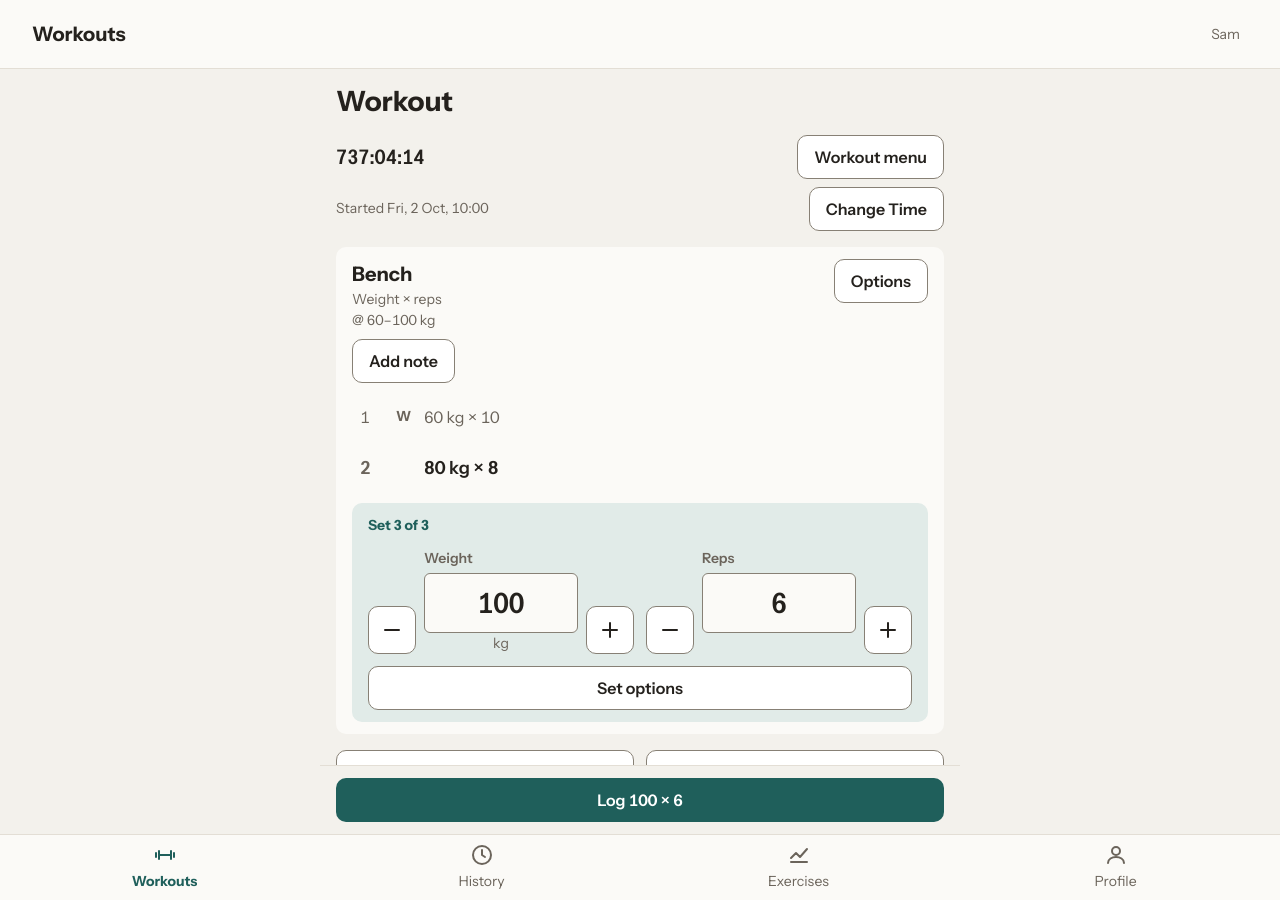
Scenario: 10.2 AC25 — a count change that is not this row's own log › an edited draft keeps the lifter's values; only the label follows
Expected: the heading "Workout" is shown, [336,84,453,118]
Replace the text in the field labelled "Reps" with "99" at (779, 603), box [702,573,856,633]
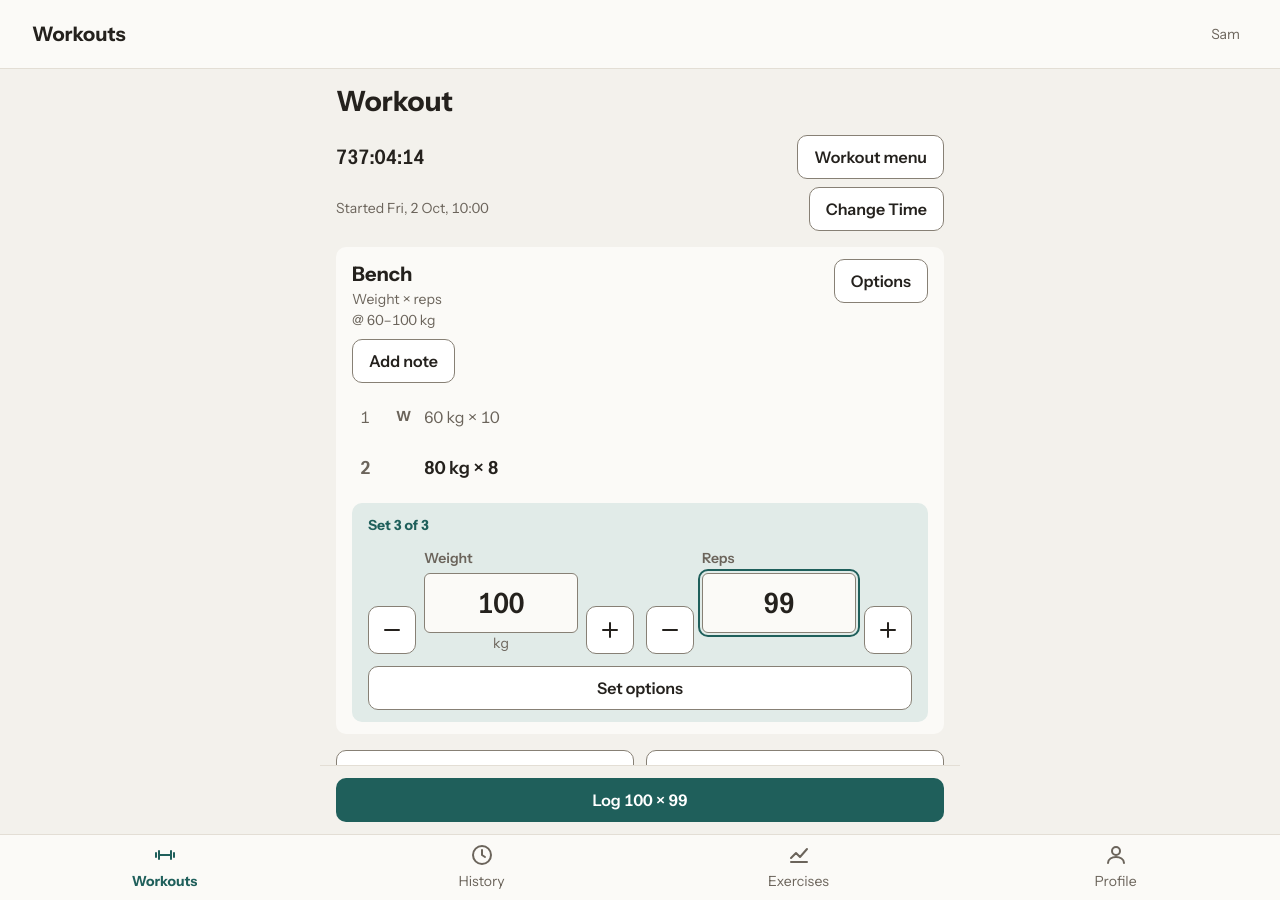
Click the button "2 80 kg × 8" at (461, 468), box [352,447,928,491]
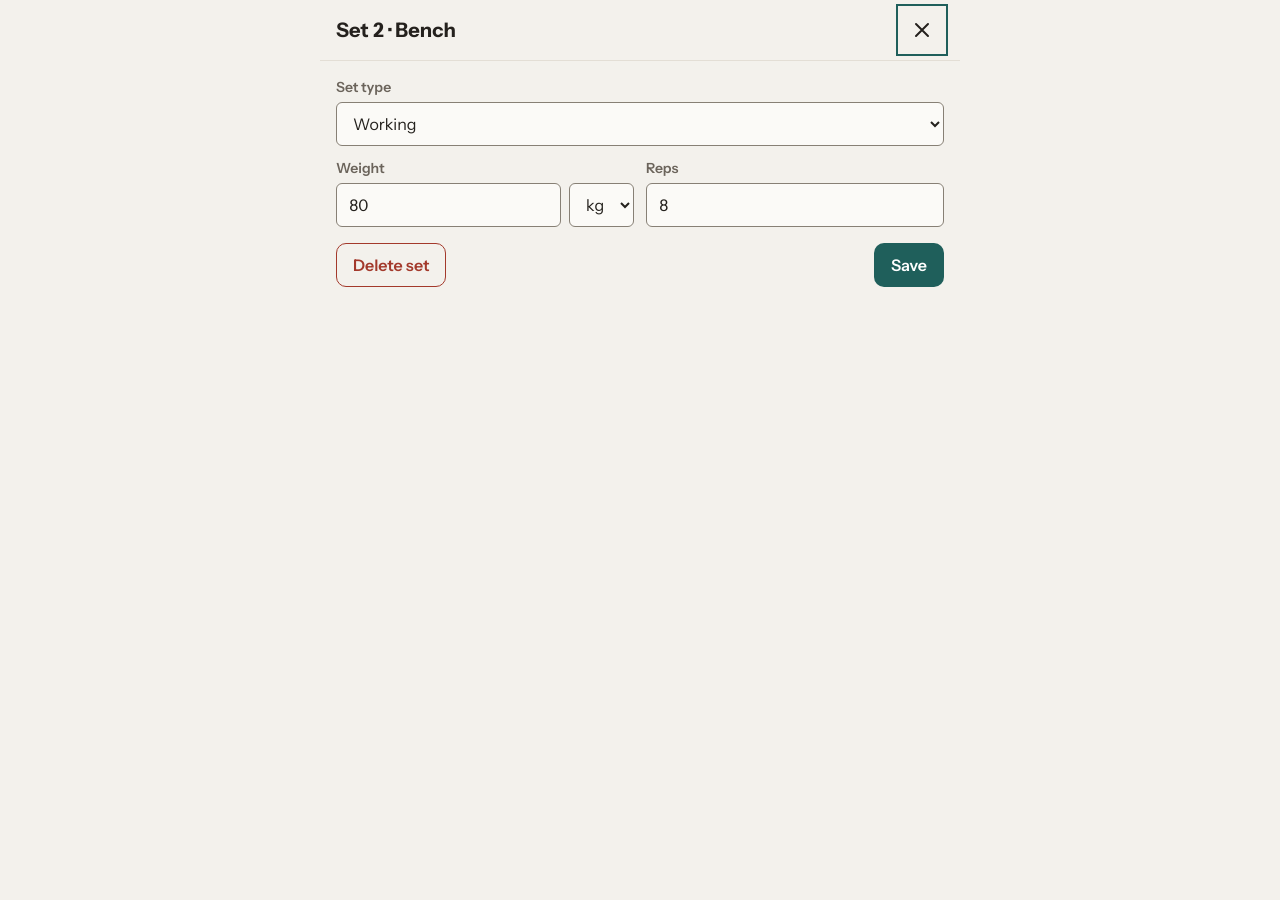
Click the button "Delete set" at (391, 265), box [336,243,446,287]
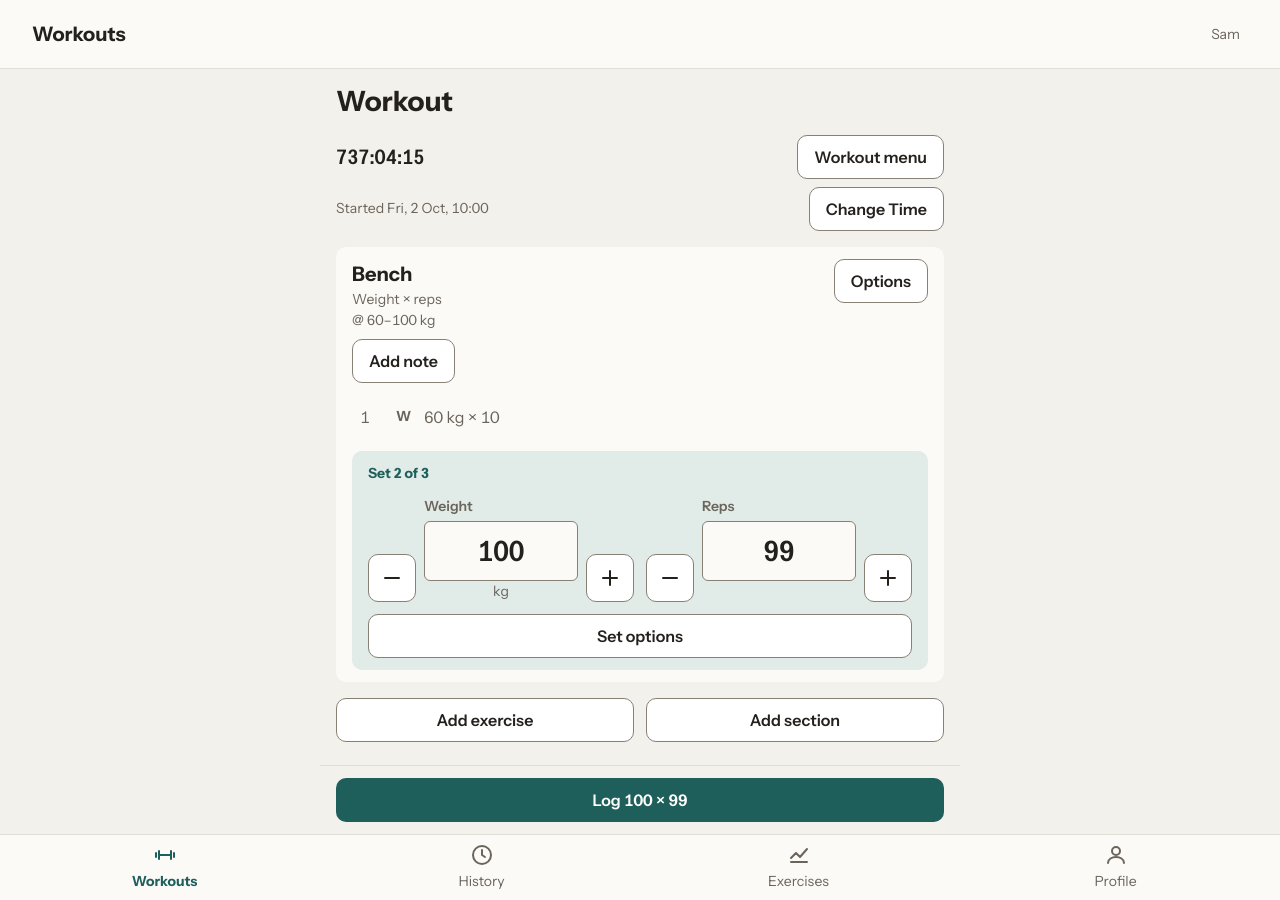
Now the text "Set 2 of 3" is shown, box [368,463,429,484]
